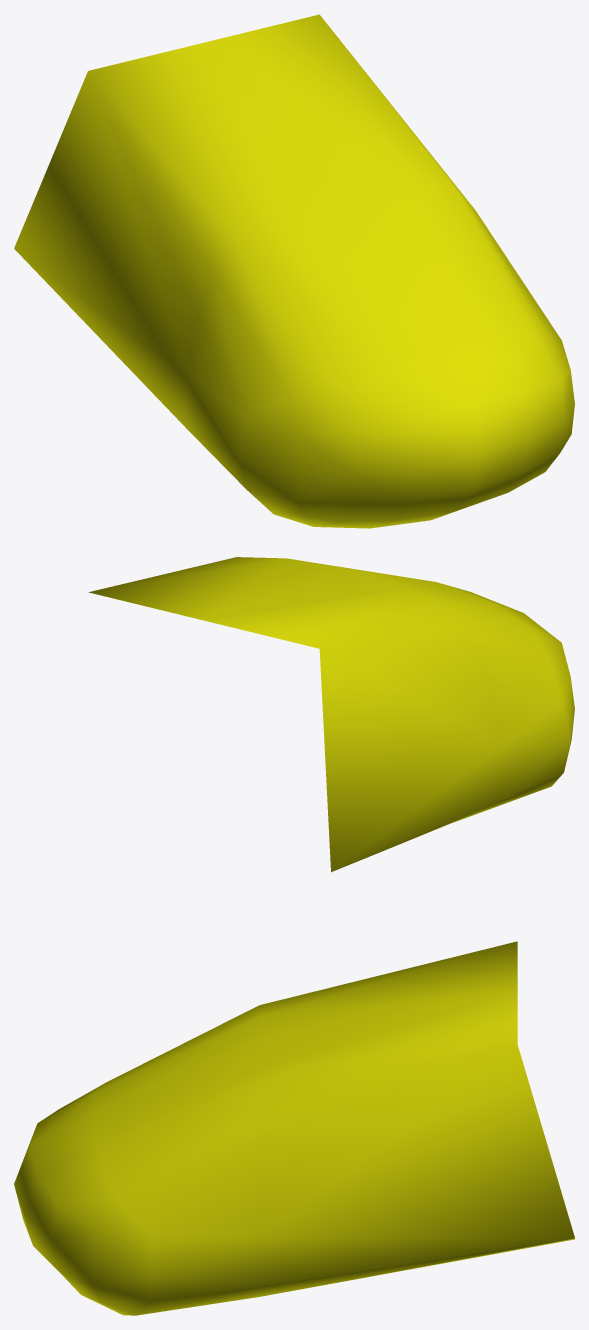
Rendered from Nose_5.glb.
The picture shows the model from 3 angles, top to bottom: view 1: azimuth 30°, elevation 25°; view 2: azimuth 150°, elevation 25°; view 3: azimuth 270°, elevation 25°; orthographic projection. The views are drawn at different scales.
Size of the model in its own units: 12.21 by 10.98 by 19.58.
